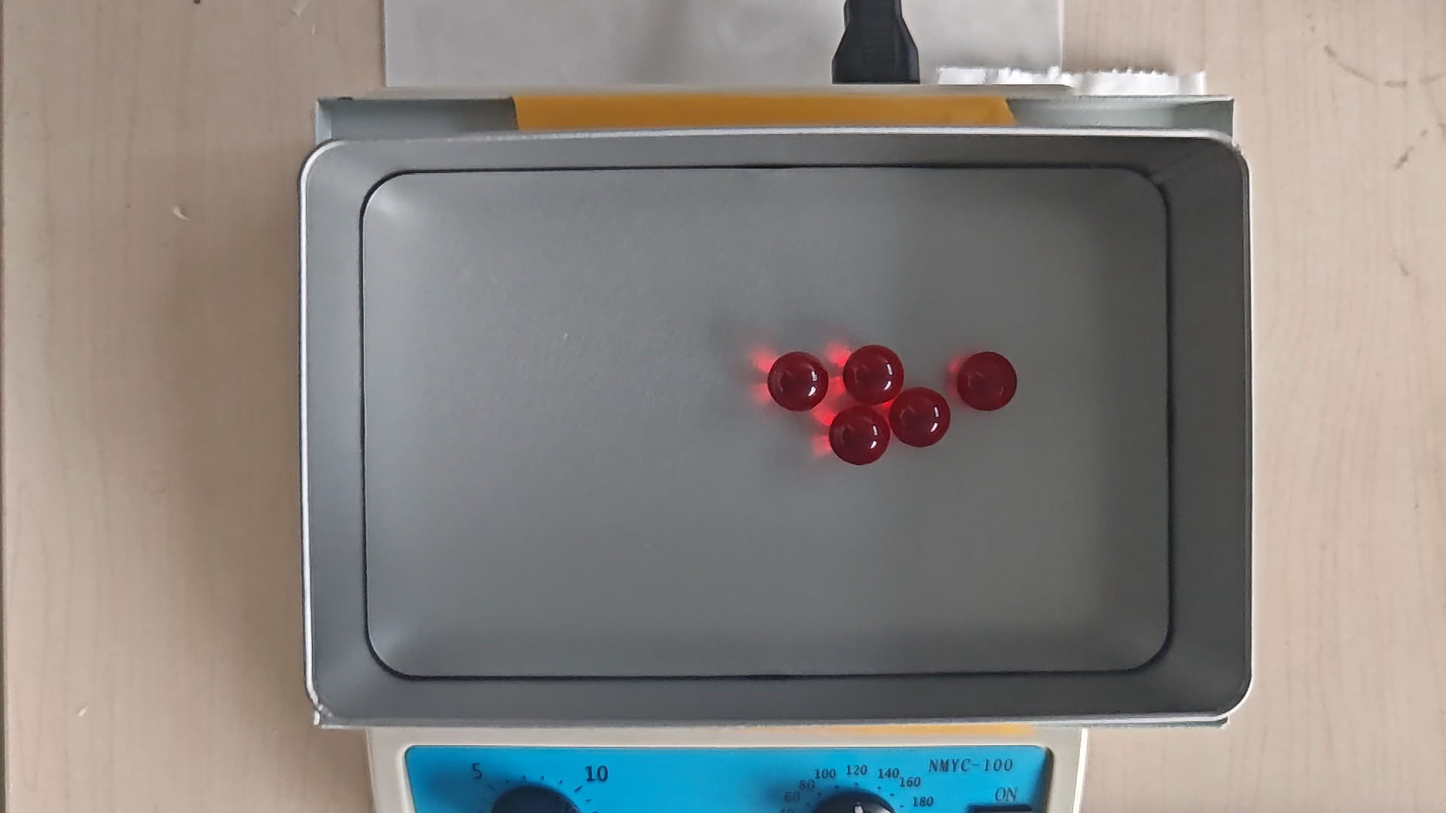ball: (769, 351, 829, 412), (959, 350, 1018, 411), (890, 388, 949, 448), (845, 346, 902, 405), (832, 406, 889, 465)
container: (356, 164, 1169, 681)
